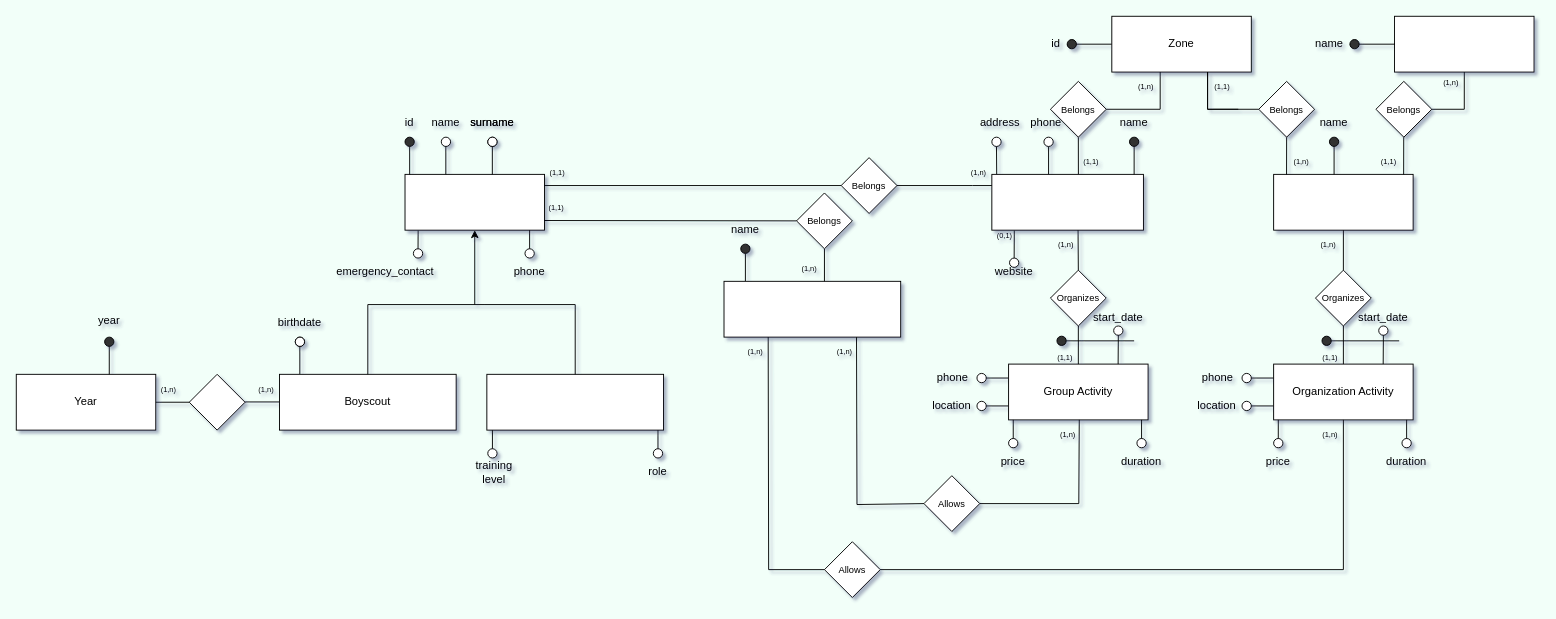
Some shapes in this 1556 by 619 pixel diagram are drawn without their labels. Each missing label, with the box of its shape:
Adult: (486, 373, 664, 430)
Category: (723, 280, 901, 337)
Group: (991, 173, 1143, 230)
Nation: (1394, 15, 1534, 72)
Organization: (1273, 173, 1413, 230)
Paid: (188, 373, 245, 430)
Person: (404, 173, 545, 230)
